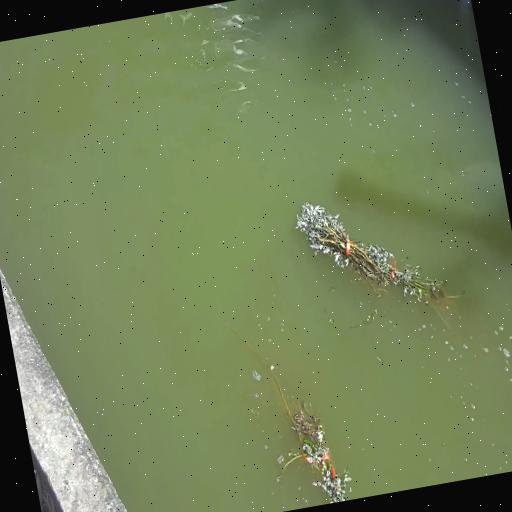twig: (222, 316, 350, 503), (296, 201, 459, 305)
